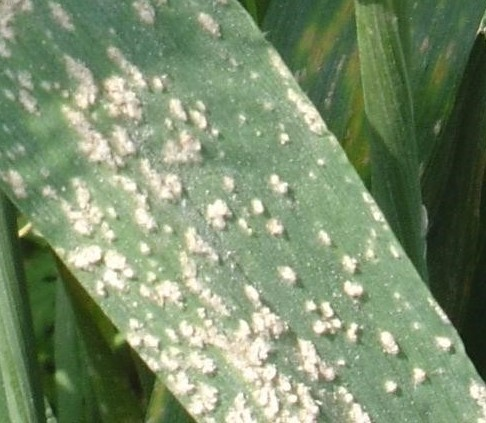Powdery Mildew: (66, 100, 405, 423)
